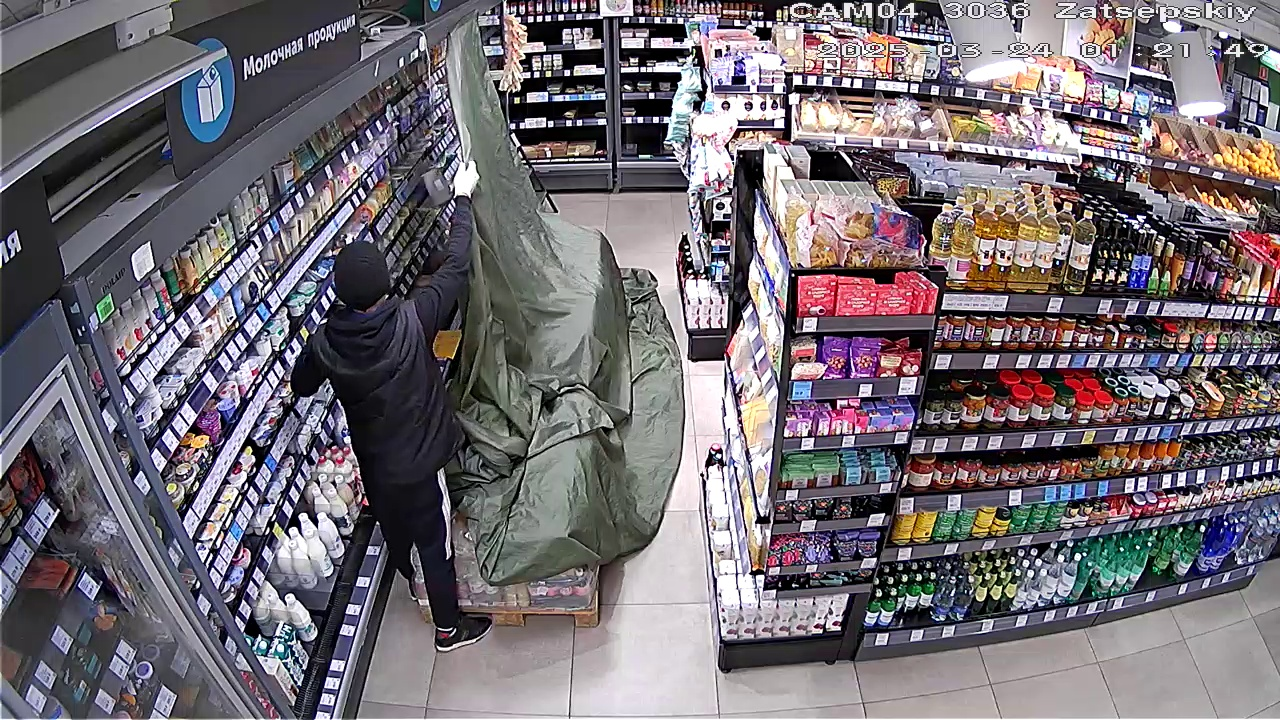Human: (294, 179, 490, 647)
dome: (435, 31, 682, 588)
